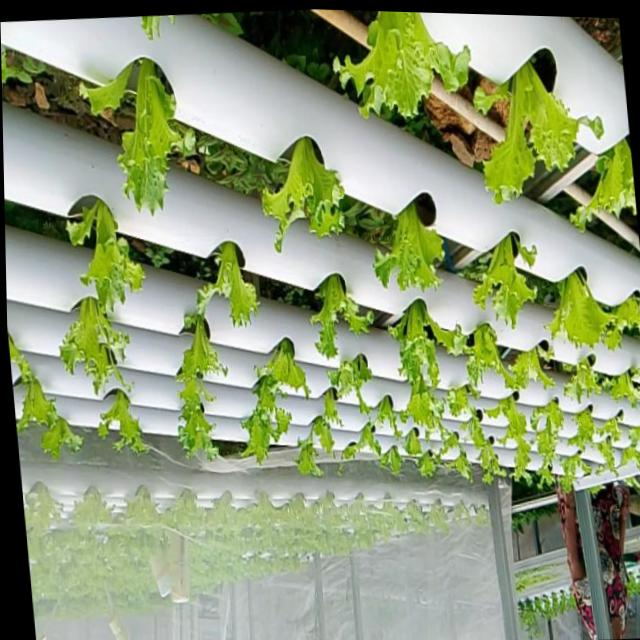Baby: (479, 61, 608, 203), (339, 11, 476, 116), (123, 56, 198, 213), (265, 134, 349, 250), (72, 196, 150, 310), (180, 304, 230, 457), (377, 190, 449, 288), (64, 295, 133, 393), (477, 229, 541, 325), (549, 267, 617, 348), (314, 271, 377, 355), (201, 239, 262, 323), (458, 320, 530, 390), (244, 373, 294, 461), (331, 350, 389, 410), (18, 358, 64, 430), (259, 335, 314, 394), (102, 387, 152, 451), (533, 395, 567, 480), (403, 371, 448, 434), (563, 451, 594, 489), (573, 406, 599, 449), (450, 383, 474, 414), (600, 434, 620, 471), (443, 426, 465, 457)
